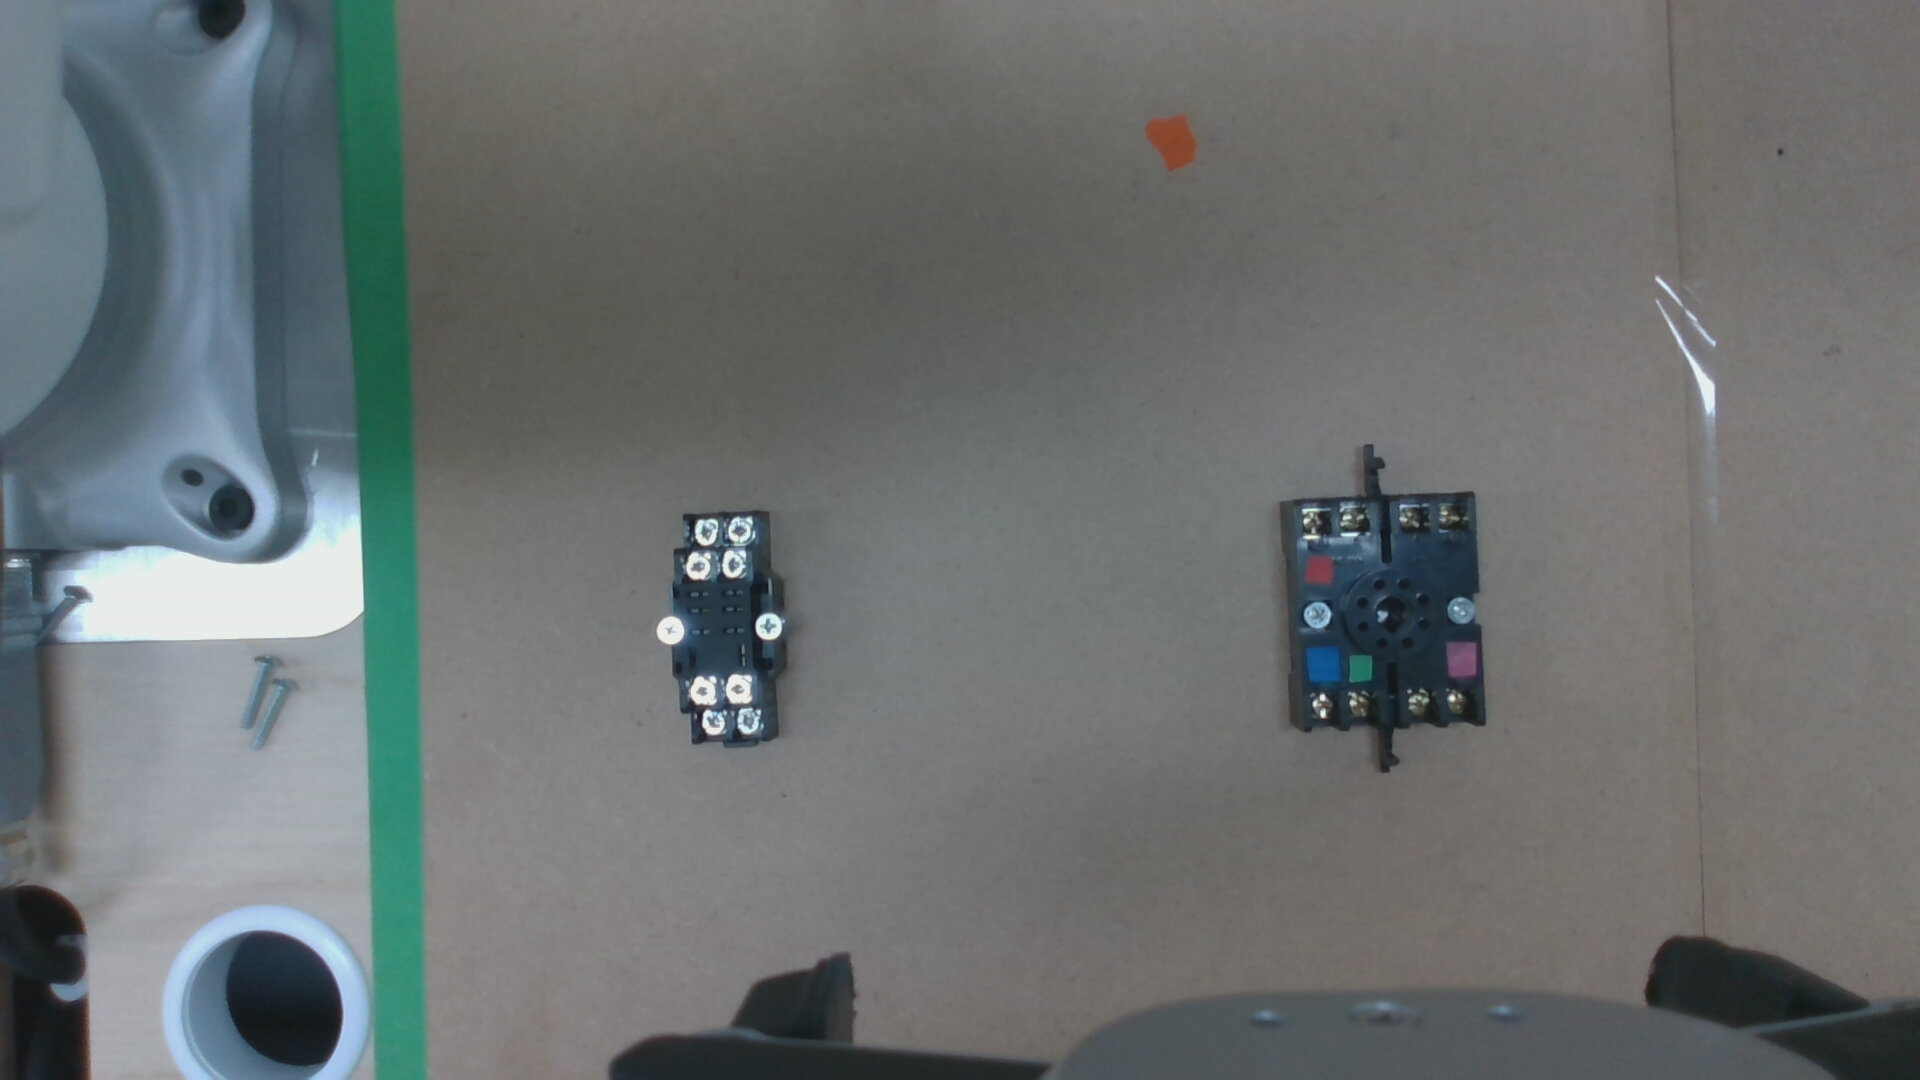relay 3: (727, 518, 752, 541)
relay 4: (691, 522, 716, 543)
relay 5: (733, 709, 760, 735)
relay 6: (698, 712, 724, 736)
relay 7: (727, 676, 750, 702)
relay 8: (687, 678, 713, 702)
